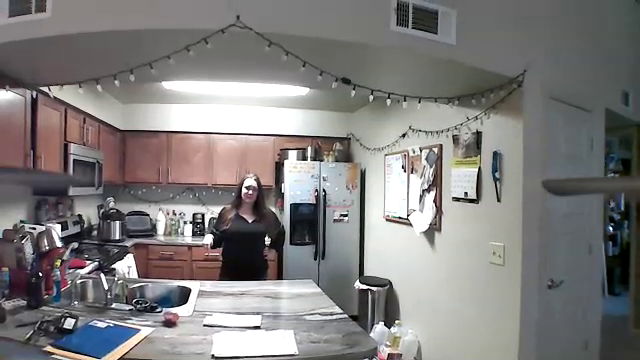down: (198, 230, 218, 260)
